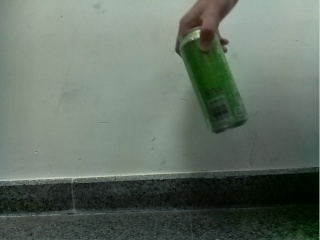botella plastico: (178, 25, 248, 134)
